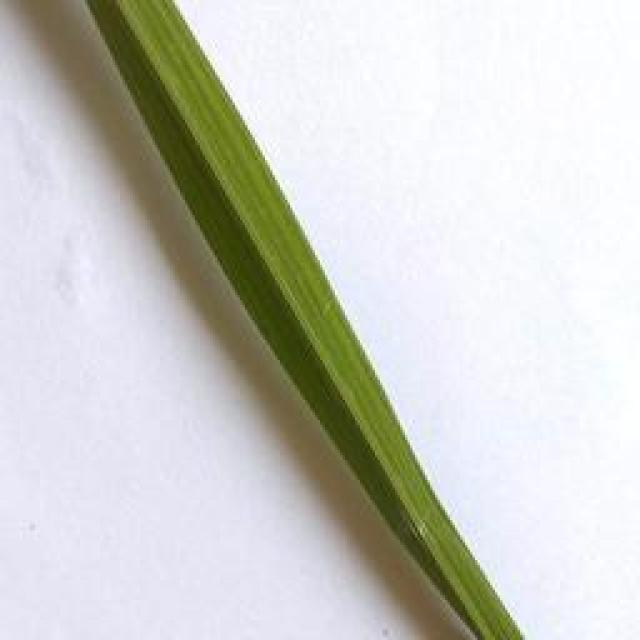Healthy-Plant: (74, 0, 534, 640)
